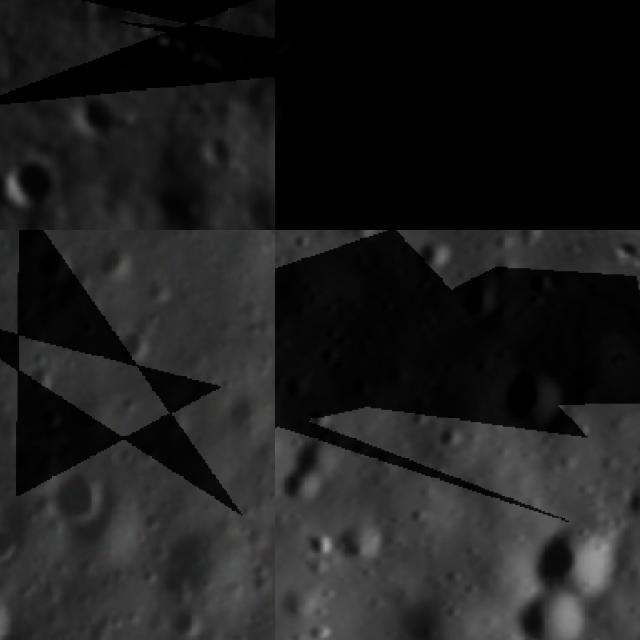crater: (275, 0, 508, 230), (523, 497, 632, 604), (275, 422, 358, 522), (488, 352, 579, 440), (500, 579, 594, 640), (2, 149, 68, 220), (328, 505, 396, 571), (443, 264, 506, 328), (553, 0, 638, 46), (52, 468, 106, 538), (402, 230, 468, 280), (544, 54, 600, 109), (73, 88, 138, 135), (296, 512, 348, 564), (517, 256, 573, 304), (94, 238, 146, 287), (202, 124, 245, 176), (38, 248, 88, 292), (0, 581, 33, 640), (108, 332, 152, 370), (0, 530, 35, 568), (431, 416, 469, 451), (618, 471, 640, 524), (546, 192, 584, 222), (275, 476, 290, 547), (0, 156, 12, 207), (467, 230, 520, 238)
